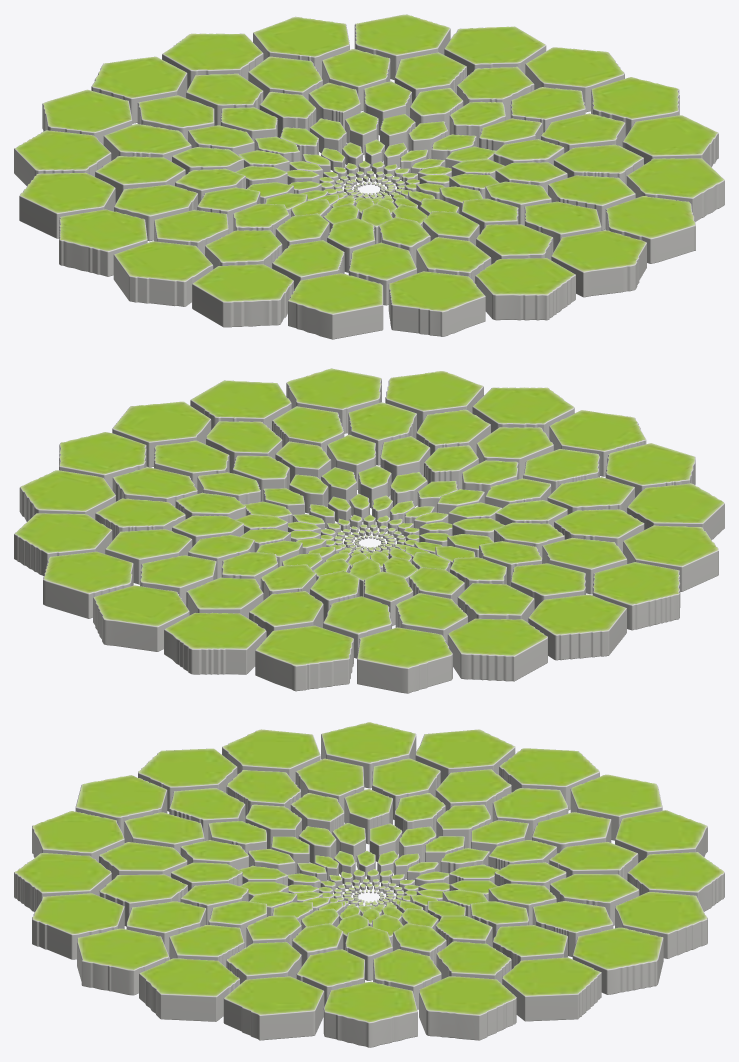
File: green-original.glb
3 renders of one model, top to bottom at view 1: azimuth 30°, elevation 25°; view 2: azimuth 150°, elevation 25°; view 3: azimuth 270°, elevation 25°, orthographic.
Visible parts, largest first — view 1: green-original | cell-013, green-original | cell-011, green-original | cell-012, green-original | cell-010, green-original | cell-014, green-original | cell-009, green-original | cell-015, green-original | cell-008, green-original | cell-016, green-original | cell-007, green-original | cell-017, green-original | cell-002 (+65 smaller); view 2: green-original | cell-019, green-original | cell-017, green-original | cell-018, green-original | cell-020, green-original | cell-016, green-original | cell-001, green-original | cell-015, green-original | cell-002, green-original | cell-014, green-original | cell-003, green-original | cell-013, green-original | cell-004 (+65 smaller); view 3: green-original | cell-006, green-original | cell-004, green-original | cell-005, green-original | cell-003, green-original | cell-007, green-original | cell-002, green-original | cell-008, green-original | cell-009, green-original | cell-001, green-original | cell-010, green-original | cell-020, green-original | cell-015 (+65 smaller).
Part boxes in pixels (<box>): green-original | cell-013: <box>192,264,293,327</box>; green-original | cell-011: <box>388,271,485,336</box>; green-original | cell-012: <box>288,273,383,339</box>; green-original | cell-010: <box>475,258,575,320</box>; green-original | cell-014: <box>113,241,213,306</box>; green-original | cell-009: <box>551,230,646,297</box>; green-original | cell-015: <box>59,209,147,276</box>; green-original | cell-008: <box>605,196,695,263</box>; green-original | cell-016: <box>19,172,115,238</box>; green-original | cell-007: <box>626,158,724,221</box>; green-original | cell-017: <box>14,130,111,185</box>; green-original | cell-002: <box>354,14,450,80</box>; green-original | cell-019: <box>255,625,353,691</box>; green-original | cell-017: <box>447,618,547,681</box>; green-original | cell-018: <box>357,627,452,693</box>; green-original | cell-020: <box>164,612,266,674</box>; green-original | cell-016: <box>528,594,626,660</box>; green-original | cell-001: <box>93,585,189,651</box>; green-original | cell-015: <box>592,562,680,630</box>; green-original | cell-002: <box>43,551,133,618</box>; green-original | cell-014: <box>623,525,718,591</box>; green-original | cell-003: <box>14,513,112,576</box>; green-original | cell-013: <box>627,483,724,540</box>; green-original | cell-004: <box>19,470,115,521</box>; green-original | cell-006: <box>223,976,324,1040</box>; green-original | cell-004: <box>419,976,516,1040</box>; green-original | cell-005: <box>323,981,417,1047</box>; green-original | cell-003: <box>502,957,601,1021</box>; green-original | cell-007: <box>139,958,239,1021</box>; green-original | cell-002: <box>572,927,663,994</box>; green-original | cell-008: <box>77,928,168,995</box>; green-original | cell-009: <box>32,893,124,959</box>; green-original | cell-001: <box>615,892,707,958</box>; green-original | cell-010: <box>14,853,111,912</box>; green-original | cell-020: <box>627,852,724,911</box>; green-original | cell-015: <box>321,722,416,788</box>.
Size of the model in its own units: 3.8 by 0.15 by 3.79.
2 materials, 1 textured.
